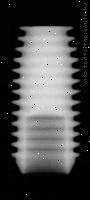Bicon: (11, 25, 80, 174)
